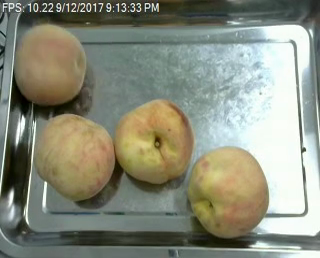Peach: (187, 145, 269, 238), (33, 113, 115, 200), (116, 98, 194, 183), (15, 22, 87, 105)
